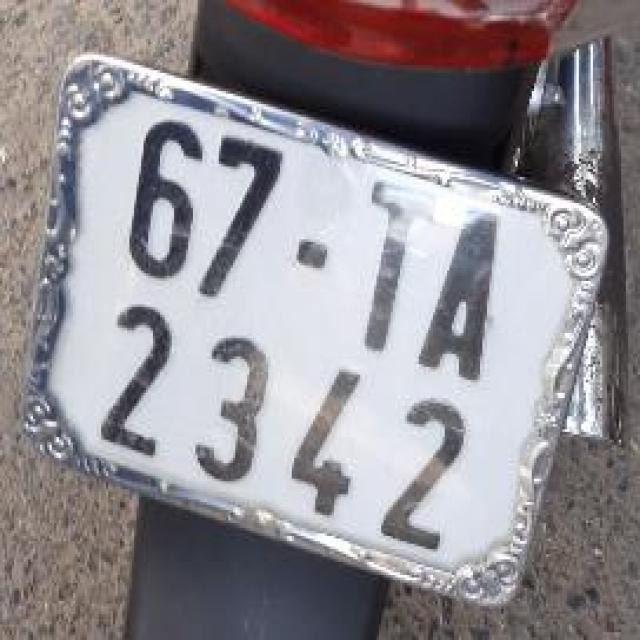2: (105, 286, 180, 471), (387, 397, 469, 545)
3: (202, 330, 280, 479)
4: (285, 355, 369, 530)
6: (118, 106, 202, 284)
7: (202, 126, 302, 306)
A: (429, 196, 516, 389)
T: (334, 161, 426, 359)
